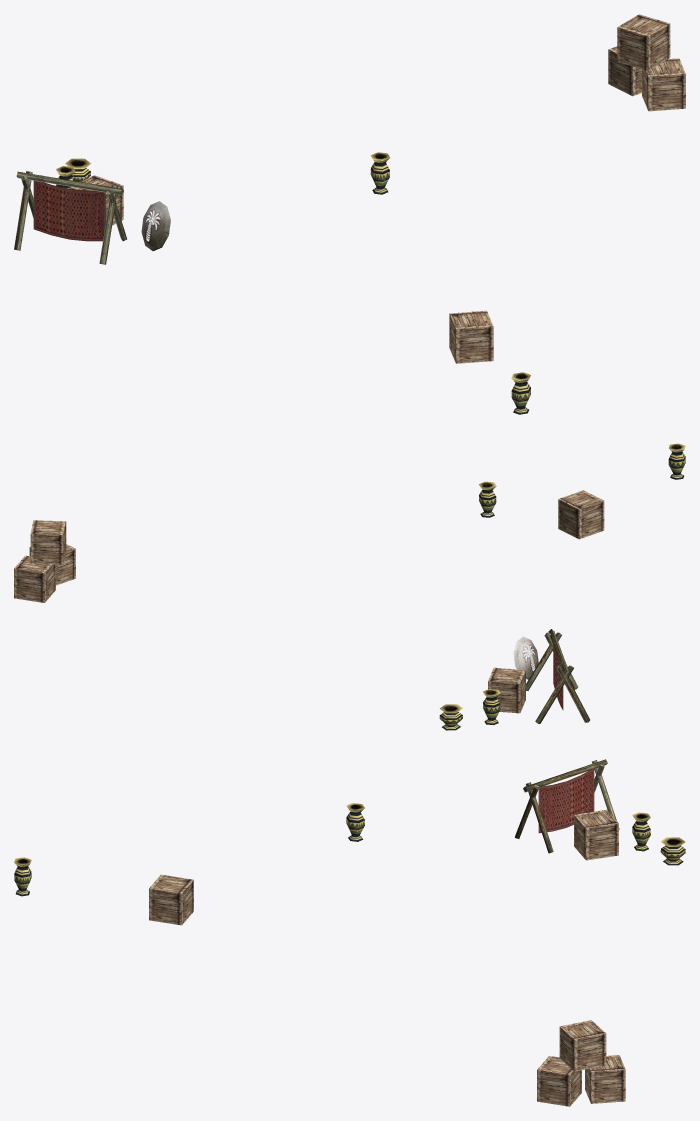
The model's file is kart_governmentcentre_b.glb.
3 renders of one model, top to bottom at view 1: azimuth 30°, elevation 25°; view 2: azimuth 150°, elevation 25°; view 3: azimuth 270°, elevation 25°, orthographic. The views are drawn at different scales.
Parts seen in each view (by area): view 1: Cylinder15; view 2: Cylinder15; view 3: Cylinder15.
Part boxes in pixels (x1,y1,x2,y2): Cylinder15: (14,14,685,414); Cylinder15: (14,443,685,730); Cylinder15: (14,759,685,1106).
Bounding box in the file's own units: 29.86 × 5.51 × 28.69.
1 material, 1 textured.
